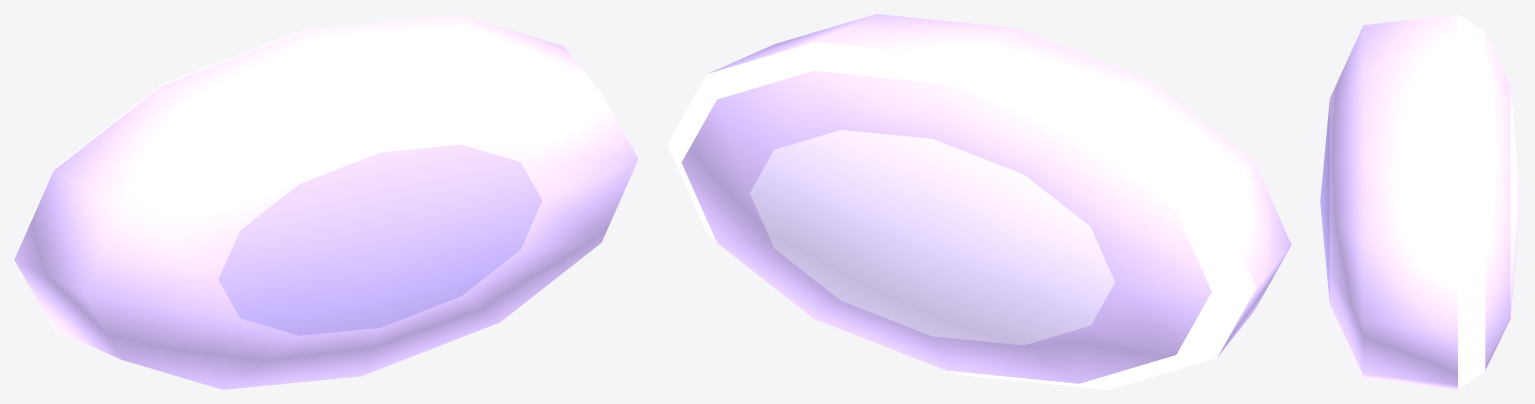
The model's file is mirror-cushion.glb.
3 renders of one model, left to right at view 1: azimuth 30°, elevation 25°; view 2: azimuth 150°, elevation 25°; view 3: azimuth 270°, elevation 25°, orthographic. The views are drawn at different scales.
Parts seen in each view (by area): view 1: mirror-cushion; view 2: mirror-cushion; view 3: mirror-cushion.
Boxes of the visible parts, x1,y1,x2,y2 form: mirror-cushion: (14,14,638,389); mirror-cushion: (667,14,1291,389); mirror-cushion: (1320,14,1520,389).
Bounding box in the file's own units: 6 × 3.1 × 1.97.
